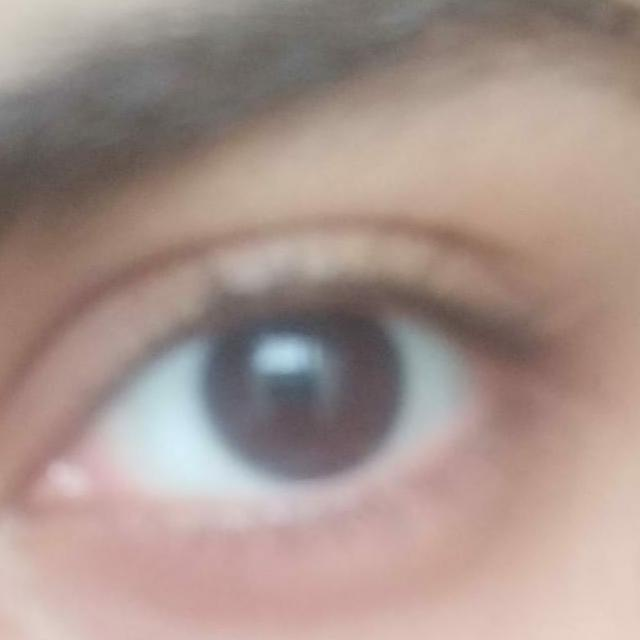eye: (81, 297, 483, 516)
iris: (200, 316, 406, 477)
